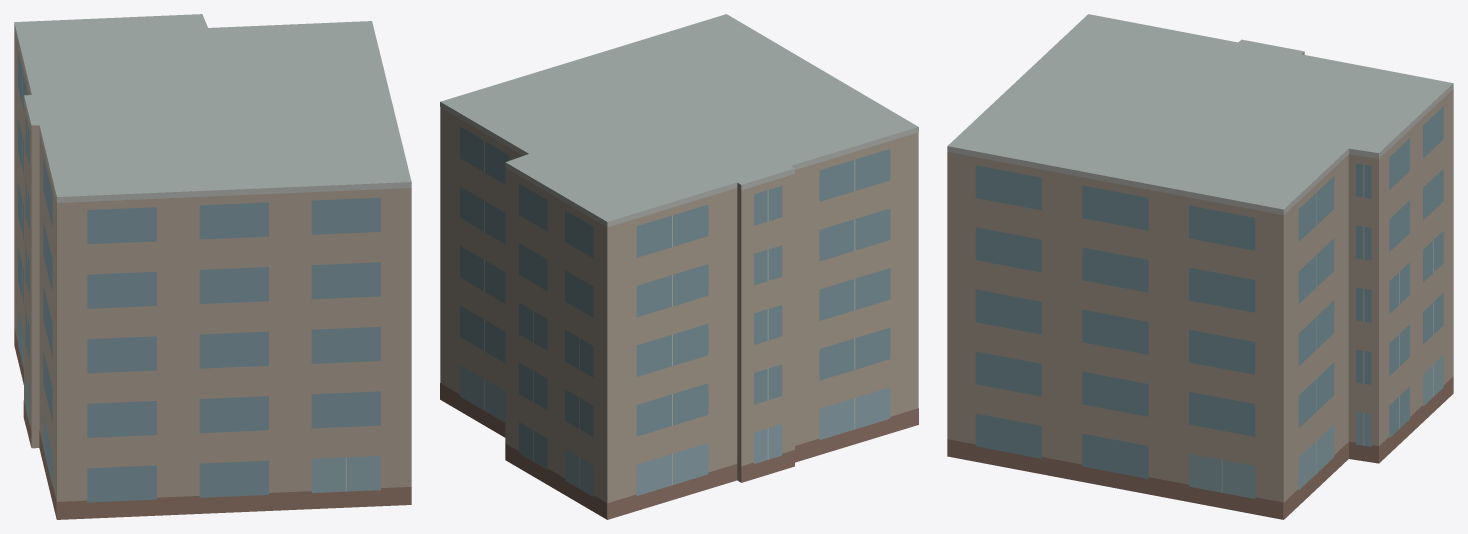
File: survey-upis-32768373.glb
3 renders of one model, left to right at view 1: azimuth 30°, elevation 25°; view 2: azimuth 150°, elevation 25°; view 3: azimuth 270°, elevation 25°, orthographic. The views are drawn at different scales.
Parts seen in each view (by area): view 1: survey-upis-32768373.tmp; view 2: survey-upis-32768373.tmp; view 3: survey-upis-32768373.tmp.
Part boxes in pixels (bbox=[...]): survey-upis-32768373.tmp: bbox=[14, 14, 411, 519]; survey-upis-32768373.tmp: bbox=[440, 14, 918, 519]; survey-upis-32768373.tmp: bbox=[947, 14, 1453, 519].
Bounding box in the file's own units: 18.12 × 13.4 × 19.82.
